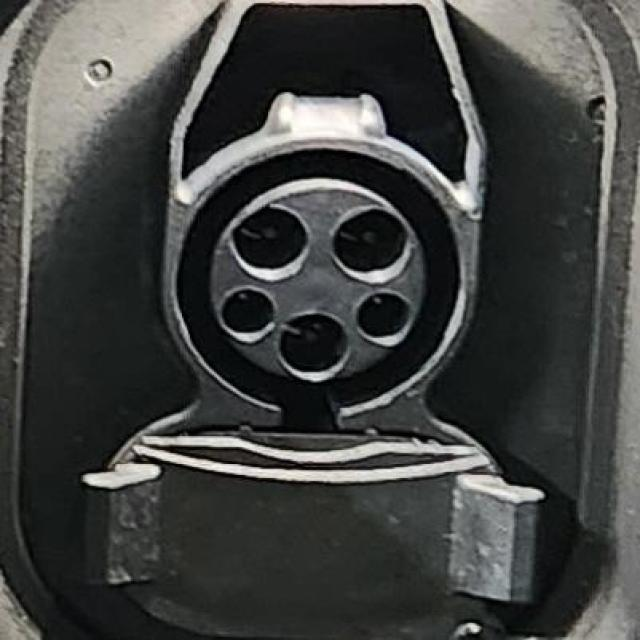Type 1: (189, 168, 446, 386)
